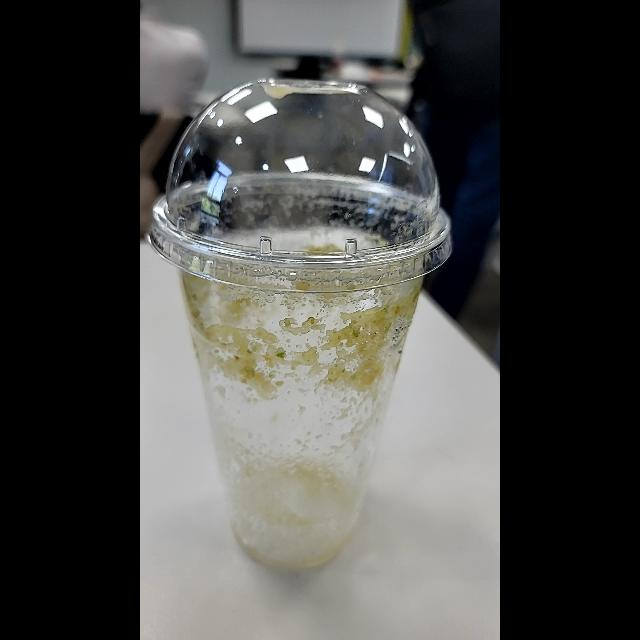plastic_cup: (148, 79, 458, 572)
plastic_cup_lid: (148, 76, 454, 294)
